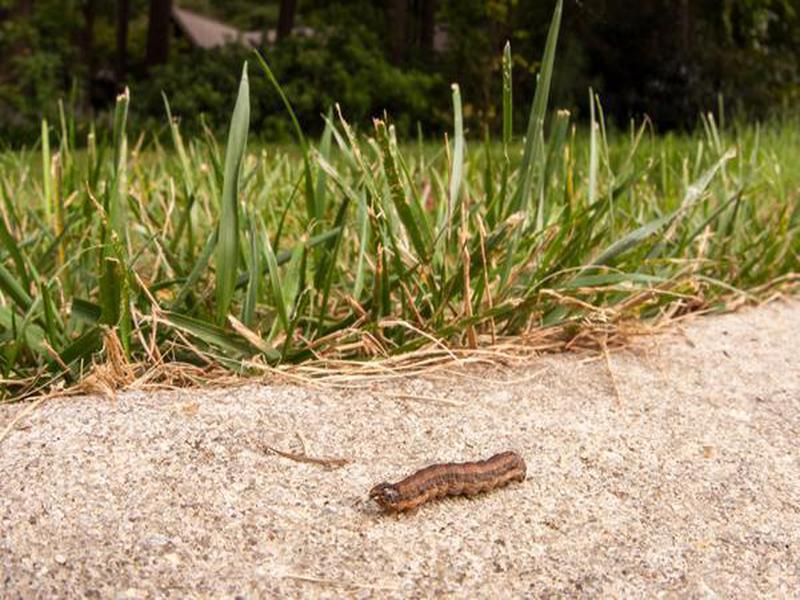Armyworms: (358, 448, 537, 530)
